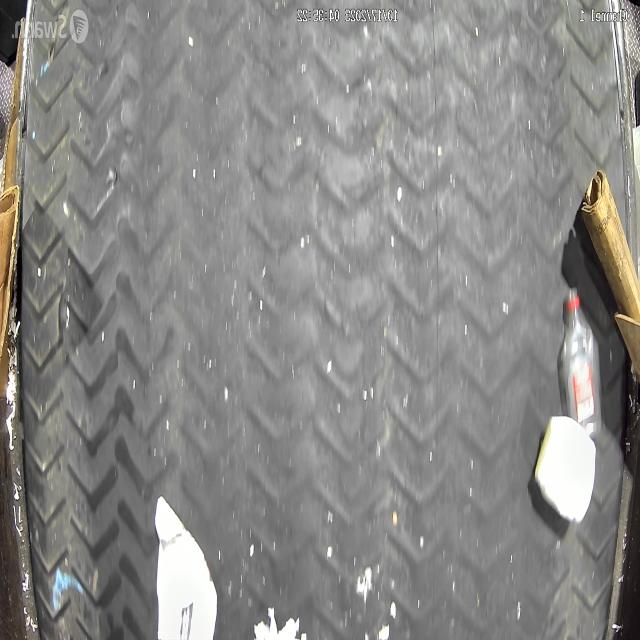plastic_bottle: (560, 283, 598, 433)
